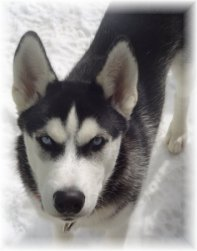dog: (10, 1, 196, 249)
